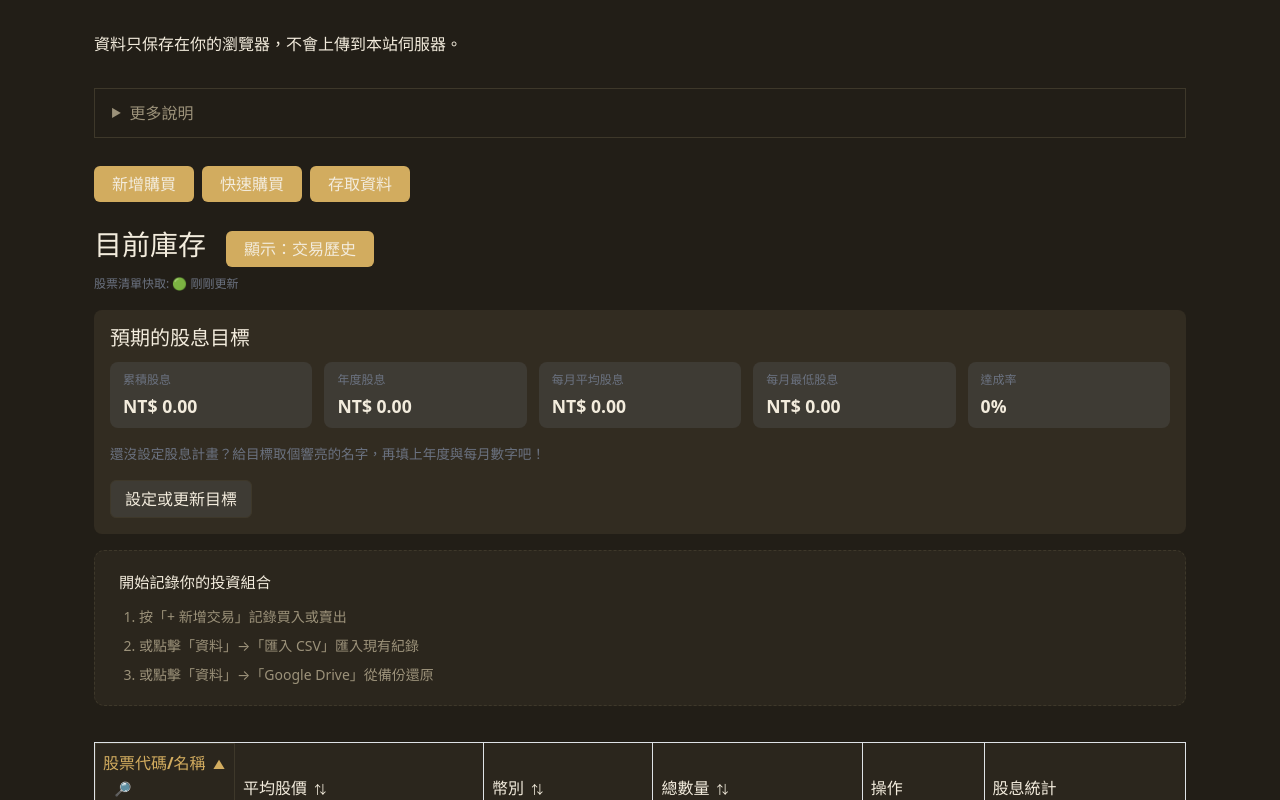
Scenario: InventoryTab data access UI › CSV mode shows import and export buttons
This screenshot has width=1280, height=800.
What coordinates should you click on to do the following:
click the button "存取資料"
I would click on:
 (360, 184)
Its box is [310, 166, 410, 202].
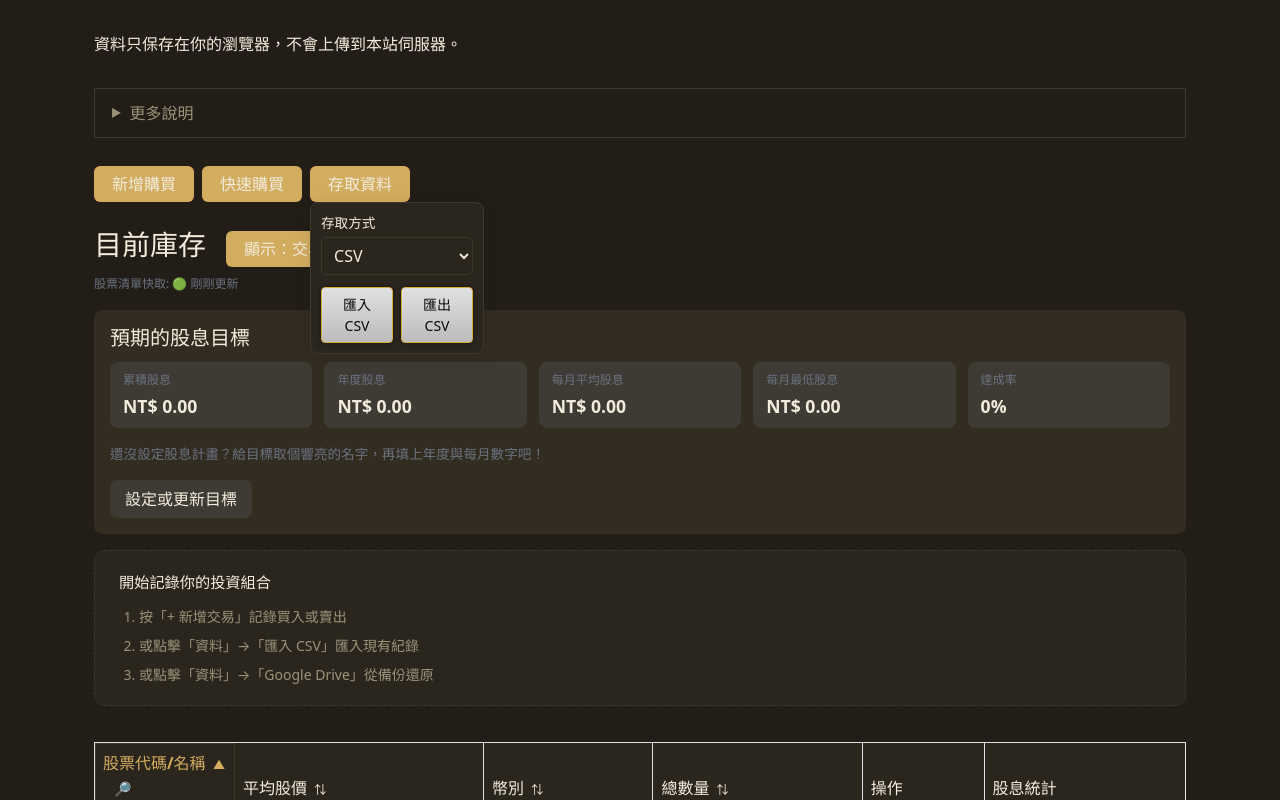
Result: the button "匯入 CSV" is shown at [321, 287, 393, 343]
Result: the button "匯出 CSV" is shown at [401, 287, 473, 343]
